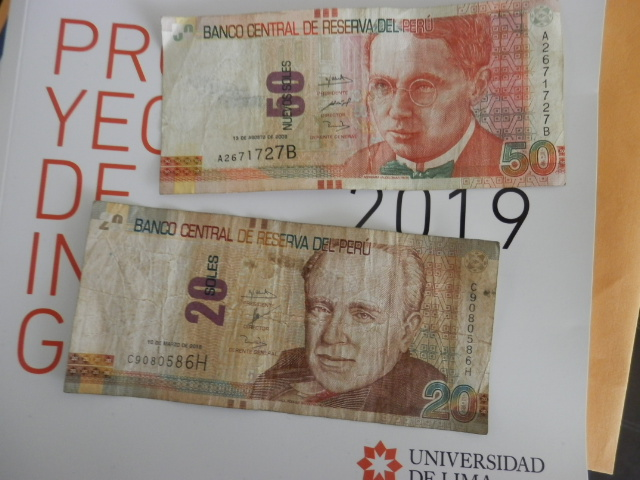B20: (62, 197, 506, 447)
B50: (155, 4, 568, 190)
